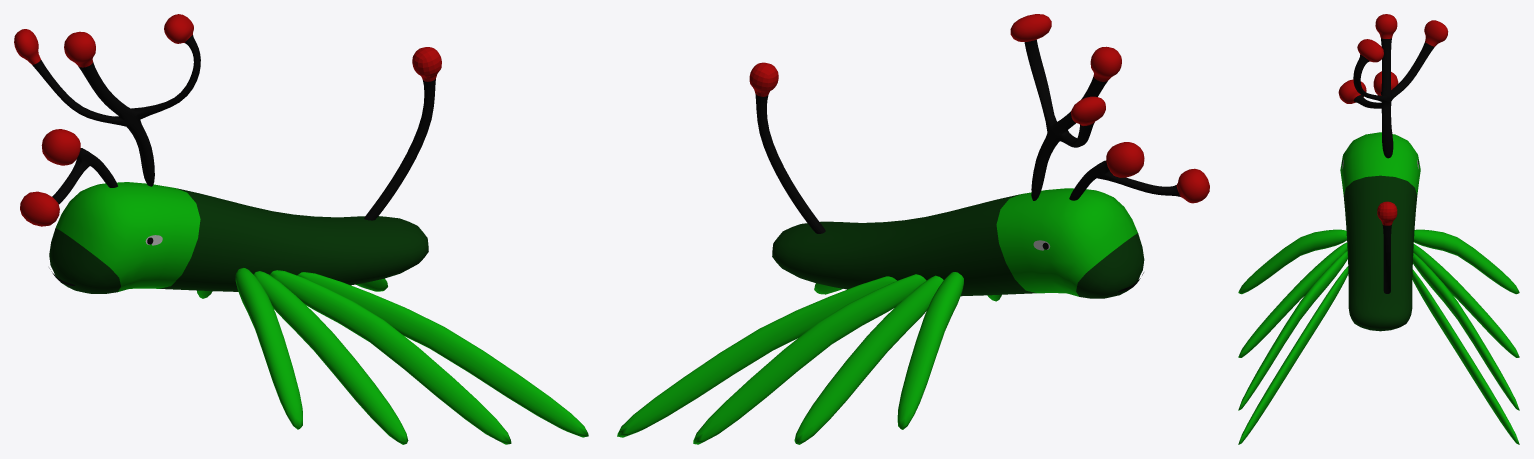
File: grasshopper-4.obj
3 views of the same model, side by side, from view 1: azimuth 30°, elevation 25°; view 2: azimuth 150°, elevation 25°; view 3: azimuth 270°, elevation 25° (orthographic). The views are drawn at different scales.
Parts seen in each view (by area): view 1: Grasshopper_Cube.4117; view 2: Grasshopper_Cube.4117; view 3: Grasshopper_Cube.4117.
Boxes of the visible parts, x1=… form: Grasshopper_Cube.4117: x1=14, y1=14, x2=588, y2=444; Grasshopper_Cube.4117: x1=617, y1=14, x2=1209, y2=444; Grasshopper_Cube.4117: x1=1238, y1=14, x2=1519, y2=444.
Bounding box in the file's own units: 2 × 1.69 × 1.45.
